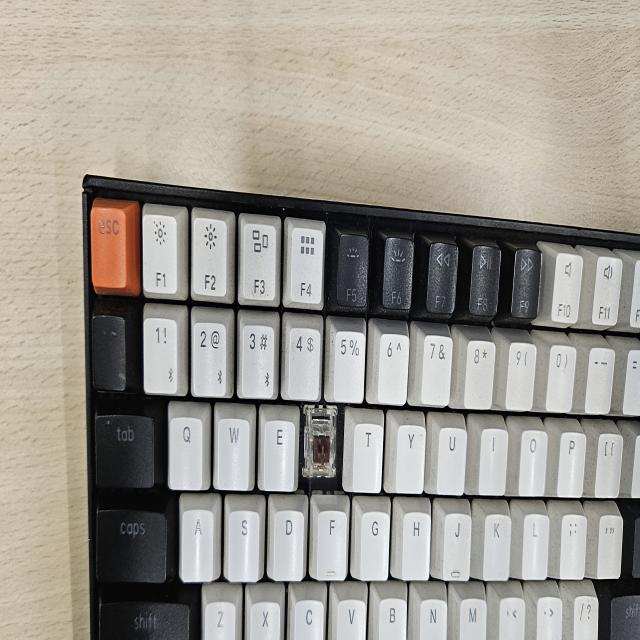C: (309, 409, 337, 504)
